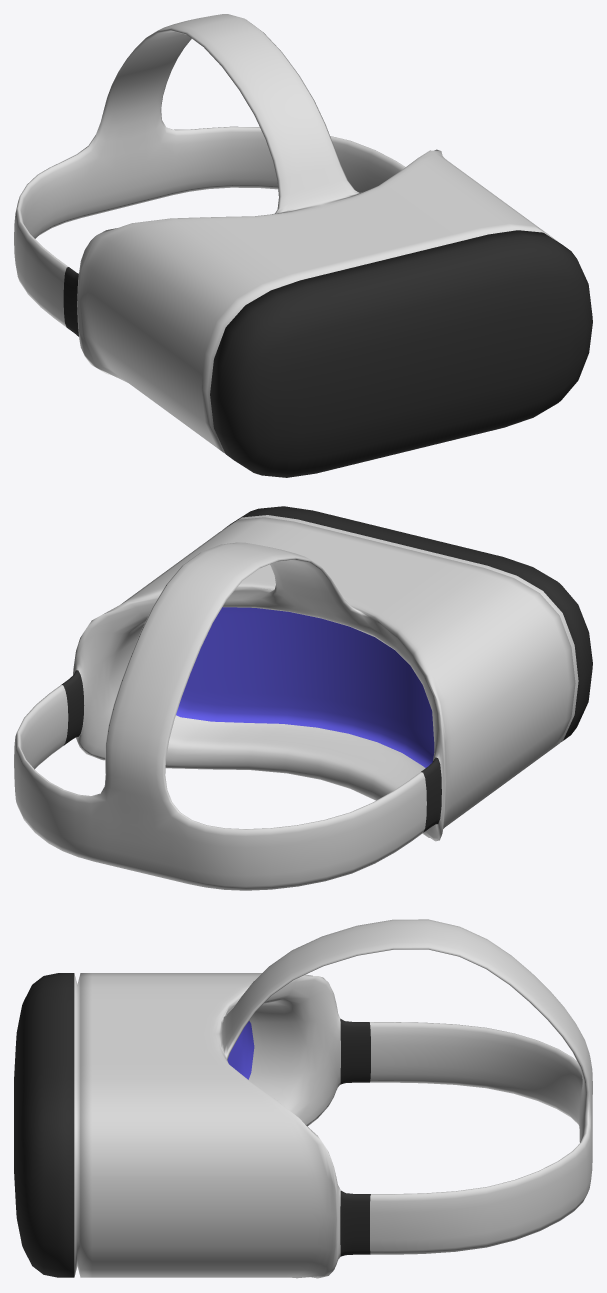
3 views of the same model, one above another, from view 1: azimuth 30°, elevation 25°; view 2: azimuth 150°, elevation 25°; view 3: azimuth 270°, elevation 25° (orthographic).
Visible parts, largest first — view 1: Plane; view 2: Plane; view 3: Plane.
Part boxes in pixels (x1,y1,x2,y2): Plane: (14,14,592,477); Plane: (14,506,592,890); Plane: (14,919,592,1278).
Size of the model in its own units: 69.62 by 51.88 by 95.13.
